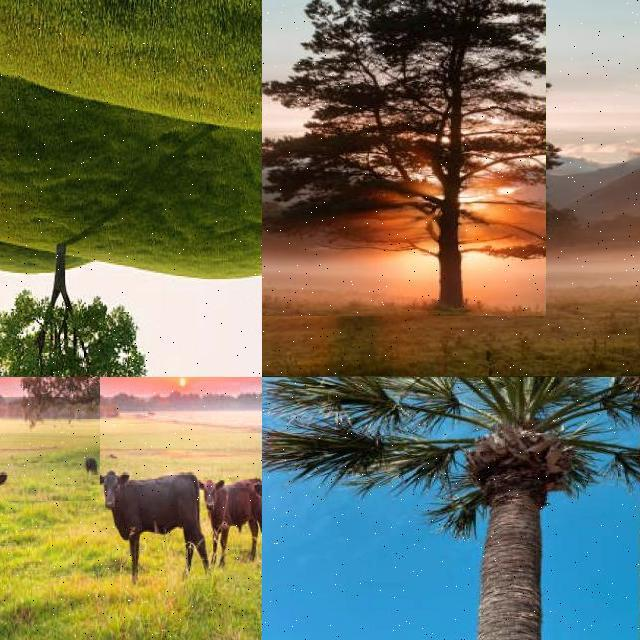tree: (262, 376, 640, 640), (262, 0, 546, 316), (0, 255, 144, 378), (0, 377, 100, 501)
